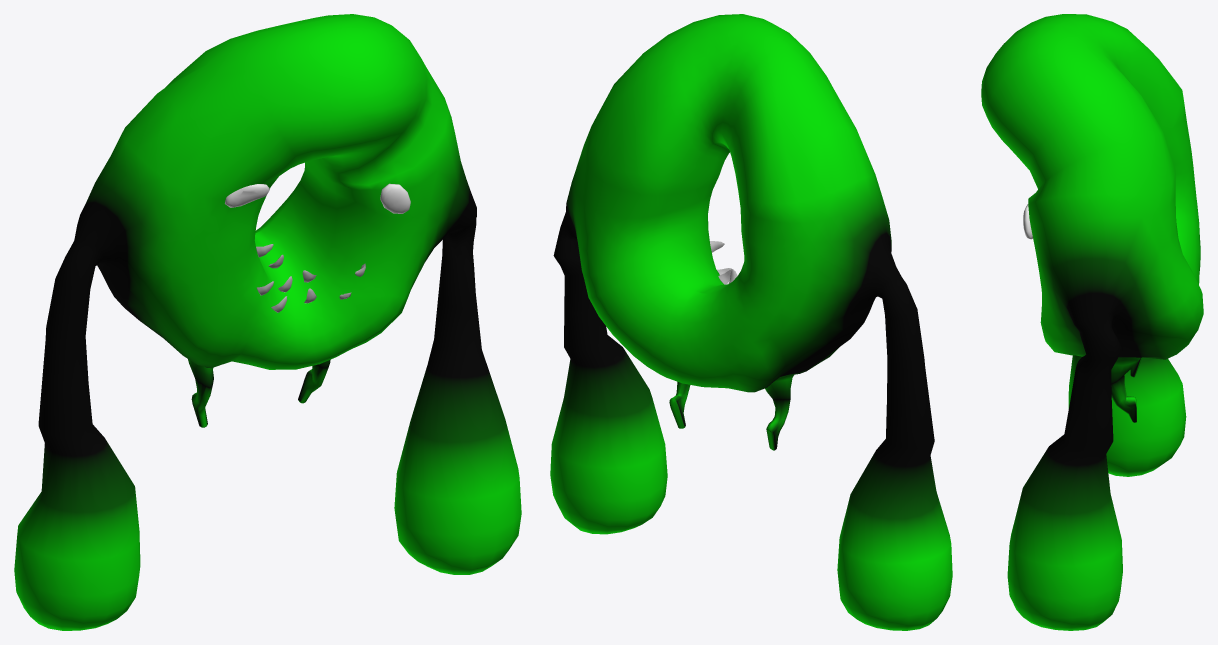
The model's file is Donut_Bad_Idle_V01.glb.
3 renders of one model, left to right at view 1: azimuth 30°, elevation 25°; view 2: azimuth 150°, elevation 25°; view 3: azimuth 270°, elevation 25°, orthographic. The views are drawn at different scales.
Parts seen in each view (by area): view 1: Donut_Body_Evil_V04, Donut_Teeth_Evil, Donut_R_Eye_Evil; view 2: Donut_Body_Evil_V04; view 3: Donut_Body_Evil_V04.
Boxes of the visible parts, bbox=[...] form: Donut_Body_Evil_V04: bbox=[14, 14, 521, 630]; Donut_Teeth_Evil: bbox=[256, 244, 365, 312]; Donut_R_Eye_Evil: bbox=[380, 183, 410, 213]; Donut_Body_Evil_V04: bbox=[550, 14, 952, 630]; Donut_Body_Evil_V04: bbox=[981, 14, 1203, 630].
Size of the model in its own units: 3.02 by 3.63 by 1.39.
